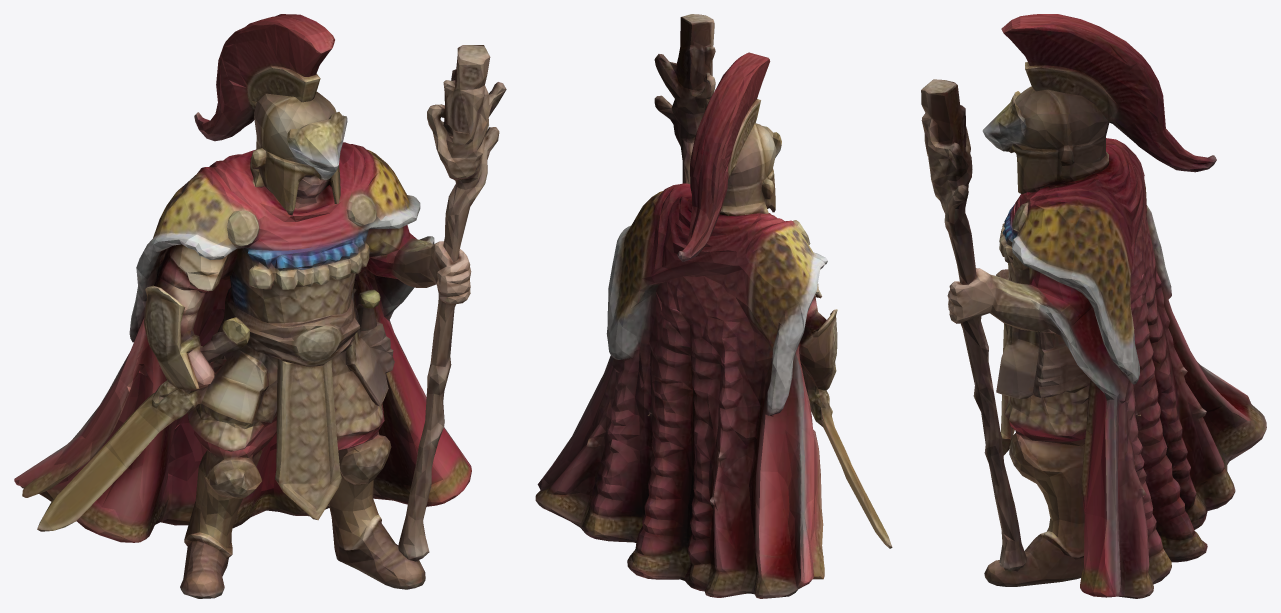
Rendered from centurion.glb.
3 renders of one model, left to right at view 1: azimuth 30°, elevation 25°; view 2: azimuth 150°, elevation 25°; view 3: azimuth 270°, elevation 25°, orthographic. The views are drawn at different scales.
Parts seen in each view (by area): view 1: world; view 2: world; view 3: world.
Boxes of the visible parts, x1,y1,x2,y2 form: world: (14,14,506,598); world: (535,14,892,598); world: (921,14,1266,598).
Bounding box in the file's own units: 0.7934 × 0.9998 × 0.6003.
1 material, 1 textured.
